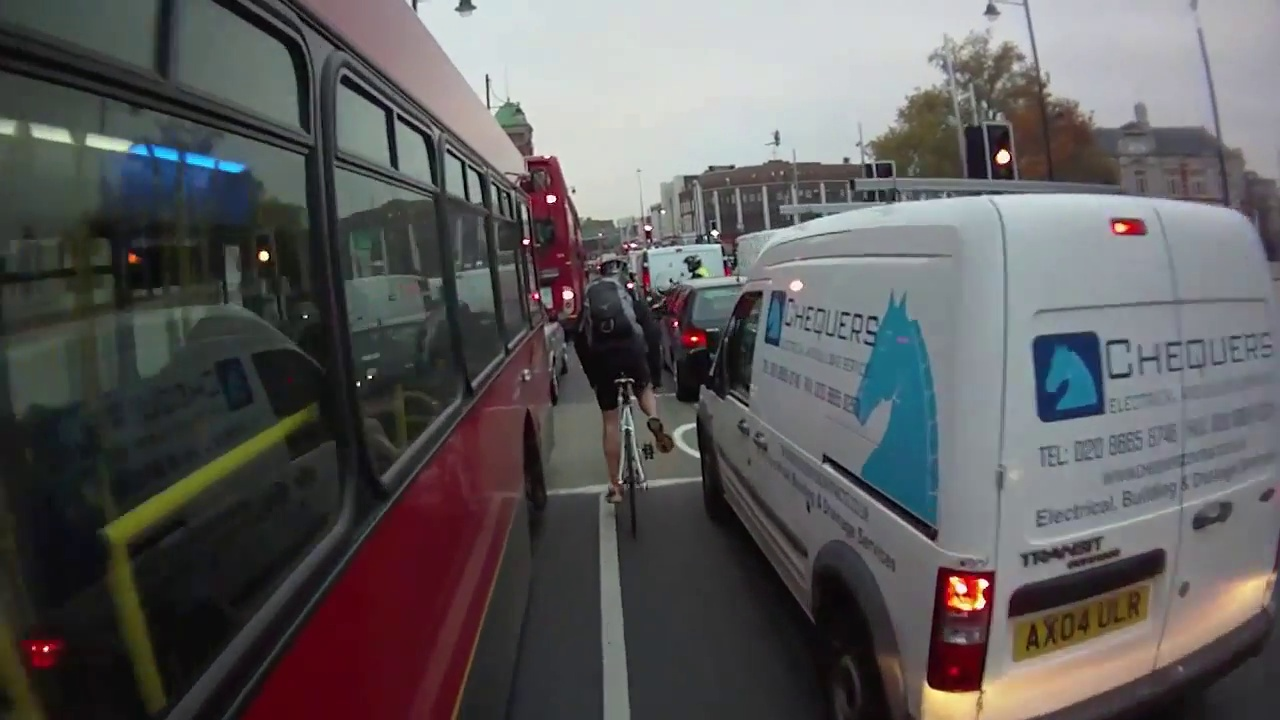cyclist_back: (575, 247, 676, 534)
